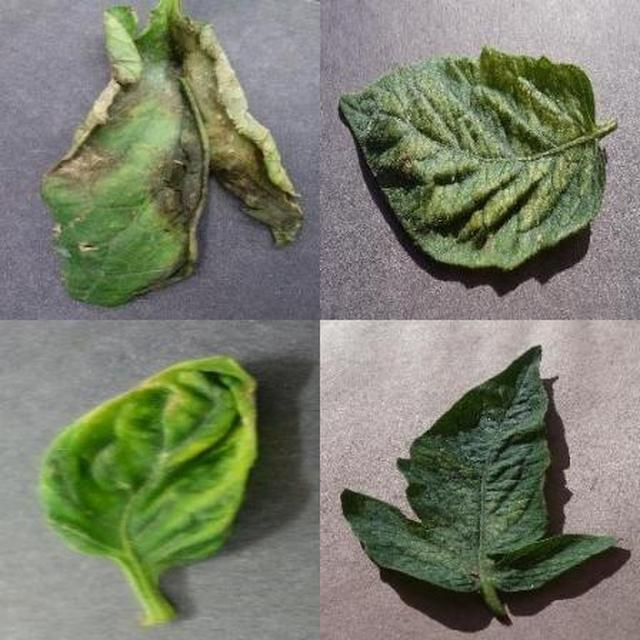Late Blight Leaf: (211, 221, 640, 640)
